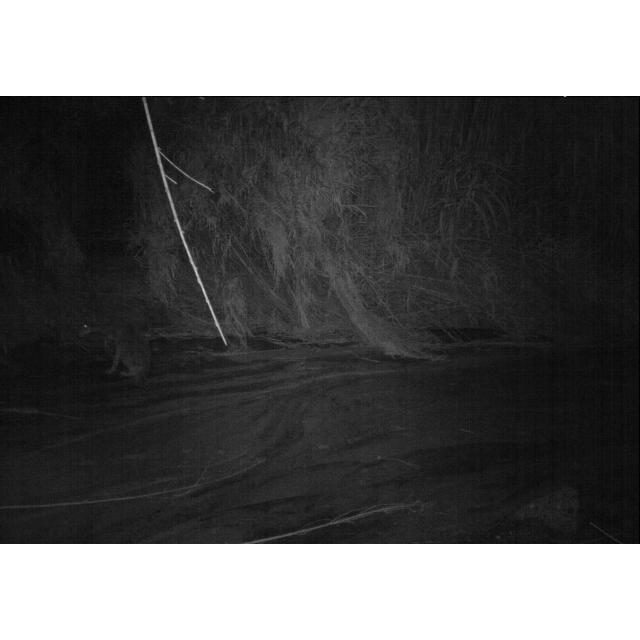animals: (76, 311, 156, 384)
